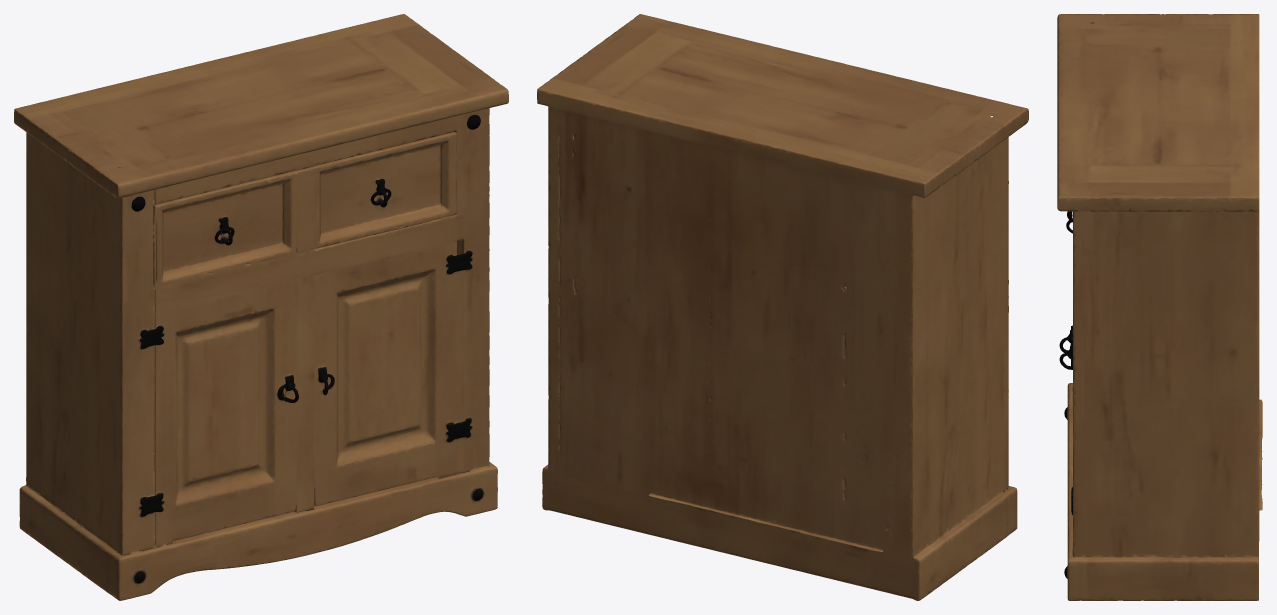
File: B01HEZJ3EC.glb
3 renders of one model, left to right at view 1: azimuth 30°, elevation 25°; view 2: azimuth 150°, elevation 25°; view 3: azimuth 270°, elevation 25°, orthographic. The views are drawn at different scales.
Parts seen in each view (by area): view 1: geometry_0; view 2: geometry_0; view 3: geometry_0.
Boxes of the visible parts, left/top/right/bottom form: geometry_0: left=14, top=14, right=508, bottom=600; geometry_0: left=537, top=14, right=1028, bottom=600; geometry_0: left=1057, top=14, right=1262, bottom=600.
Bounding box in the file's own units: 0.6182 × 0.6381 × 0.2922.
1 material, 1 textured.
